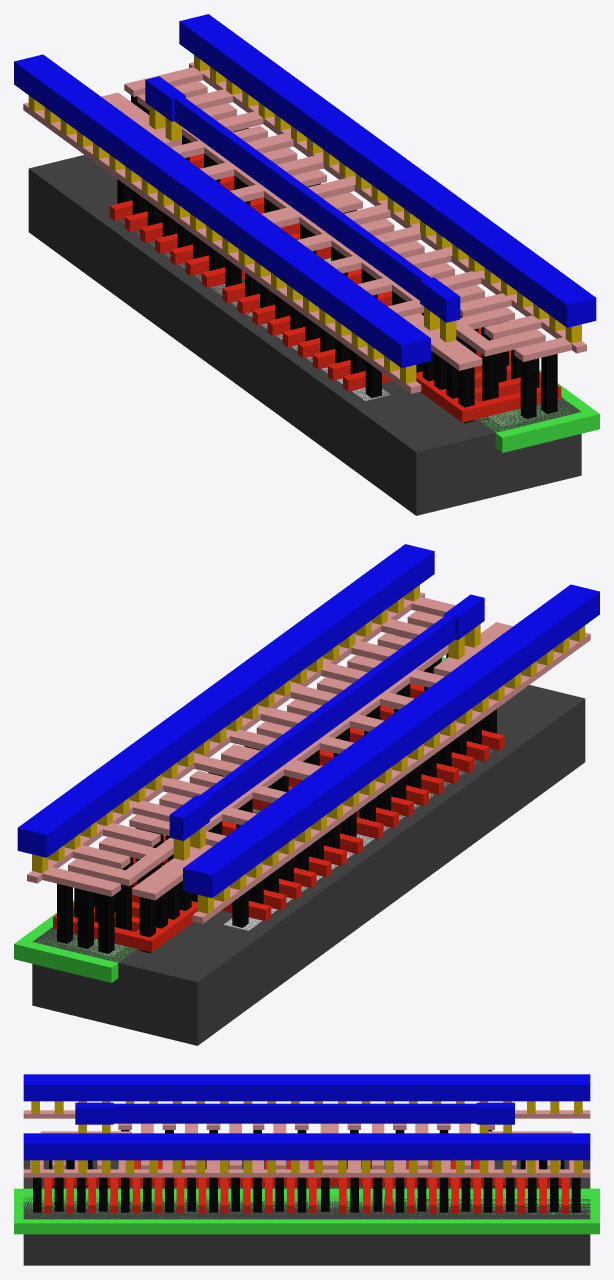
Rendered from sky130_fd_sc_hd__clkinv_16.obj.
3 views of the same model, one above another, from view 1: azimuth 30°, elevation 25°; view 2: azimuth 150°, elevation 25°; view 3: azimuth 270°, elevation 25° (orthographic). The views are drawn at different scales.
Visible parts, largest first — view 1: metal1, subs, li, licon, poly, mcon, nwell; view 2: metal1, subs, li, licon, poly, mcon, nwell; view 3: metal1, subs, nwell, li, poly, licon, mcon.
Part boxes in pixels (x1=…): metal1: x1=14, y1=14, x2=596, y2=367; subs: x1=28, y1=155, x2=581, y2=515; li: x1=23, y1=62, x2=586, y2=393; licon: x1=117, y1=95, x2=557, y2=423; poly: x1=109, y1=153, x2=561, y2=422; mcon: x1=28, y1=55, x2=581, y2=383; nwell: x1=324, y1=258, x2=599, y2=452; metal1: x1=17, y1=544, x2=599, y2=897; subs: x1=32, y1=685, x2=585, y2=1045; li: x1=27, y1=592, x2=590, y2=923; licon: x1=57, y1=635, x2=496, y2=953; poly: x1=53, y1=661, x2=504, y2=952; mcon: x1=32, y1=585, x2=585, y2=913; nwell: x1=14, y1=657, x2=446, y2=982; metal1: x1=23, y1=1074, x2=590, y2=1160; subs: x1=23, y1=1160, x2=590, y2=1265; nwell: x1=14, y1=1188, x2=599, y2=1234; li: x1=23, y1=1110, x2=590, y2=1177; poly: x1=44, y1=1160, x2=569, y2=1213; licon: x1=33, y1=1130, x2=580, y2=1212; mcon: x1=31, y1=1101, x2=582, y2=1172.
Bounding box in the file's own units: 3.2 × 2.74 × 11.42.
